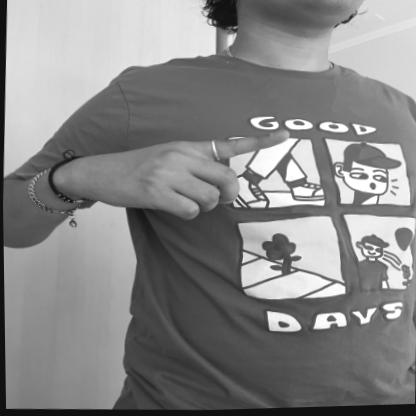S: (62, 124, 291, 231)
